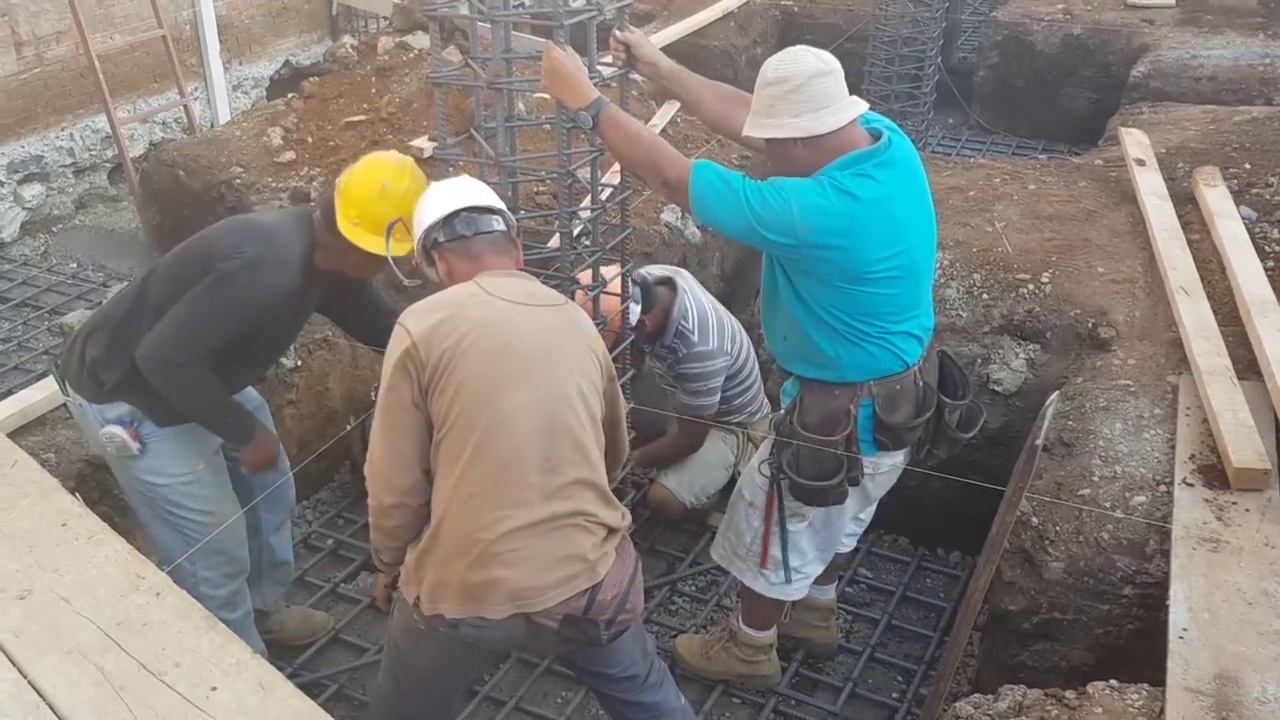helmet: (333, 146, 428, 267), (407, 171, 513, 263), (575, 263, 642, 354)
helmet-off: (736, 44, 874, 179)
helmet-on: (313, 144, 428, 297), (412, 164, 528, 292), (574, 262, 685, 362)
person: (541, 12, 942, 695), (64, 147, 433, 639), (359, 165, 679, 718), (571, 259, 762, 525)
